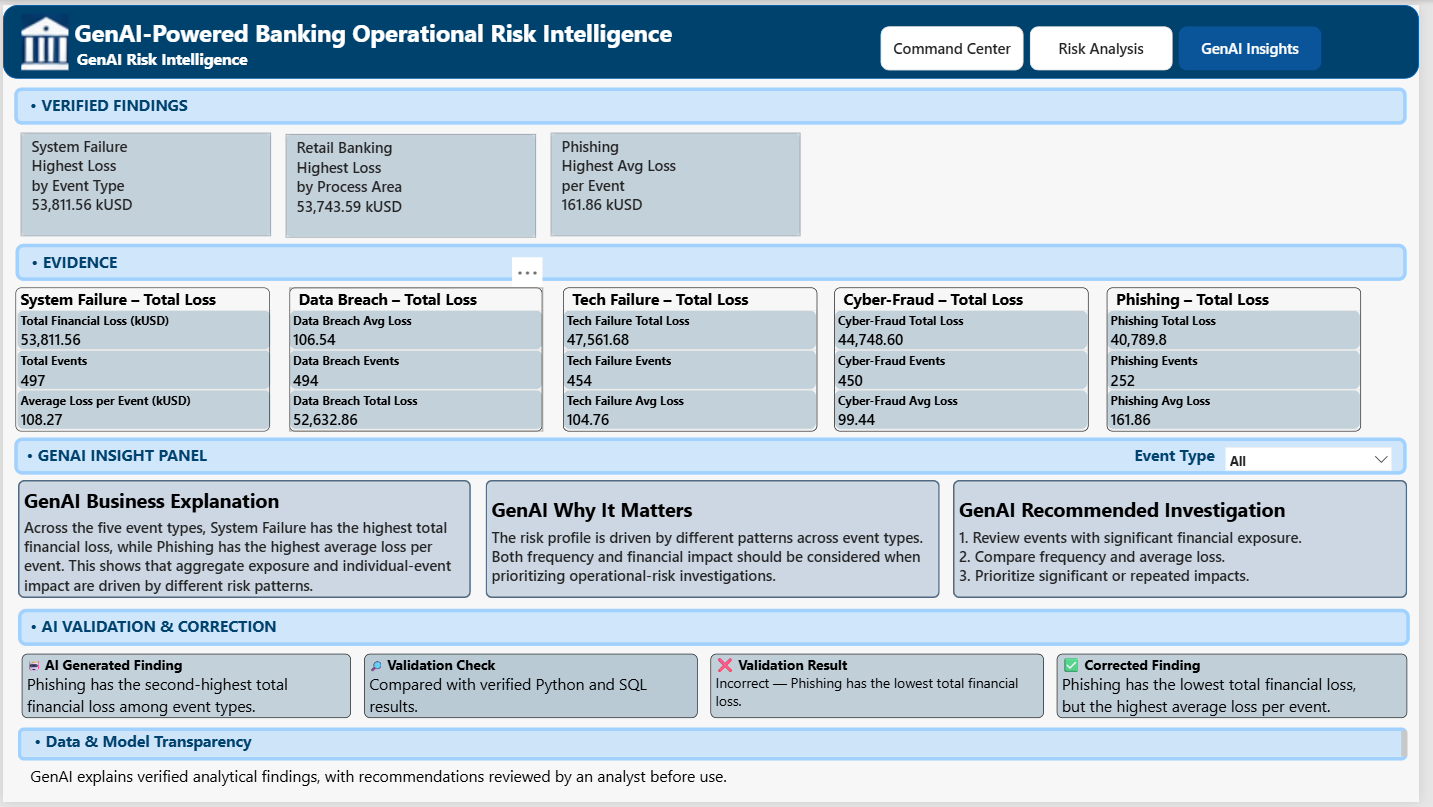

The page's visual inventory and layout, read from the dashboard file:
{"tool":"powerbi","page":{"name":"GenAI Insights","canvas":[1920,1080],"ordinal":2},"visuals":[{"type":"shape","box":[0,0,1920,100],"z":0},{"type":"textbox","box":[0,15,1920,85],"z":1000},{"type":"image","box":[0,11.7,113.3,76.7],"z":2000},{"type":"pageNavigator","box":[1190,28.3,600,60],"z":3000},{"type":"textbox","box":[16.1,112.5,1888,50],"z":4000},{"type":"cardVisual","fields":{"Data":["operational risk.Verified Finding 1"]},"box":[24.4,173.3,340,141],"z":5000},{"type":"cardVisual","fields":{"Data":["operational risk.Verified Finding 2"]},"box":[383.3,174.4,340,141],"z":6000},{"type":"cardVisual","fields":{"Data":["operational risk.Verified Finding 3"]},"box":[742.9,173.2,339.3,141.1],"z":7000},{"type":"textbox","box":[16.7,323.3,1886.7,50],"z":8000},{"type":"cardVisual","fields":{"Data":["operational risk.System Failure Total Loss","operational risk.System Failure Events","operational risk.System Failure Avg Loss"]},"box":[18.9,413.3,345.6,164.4],"z":9000},{"type":"textbox","box":[17.8,382.2,344.4,195.6],"z":10000},{"type":"cardVisual","fields":{"Data":["operational risk.Data Breach Avg Loss","operational risk.Data Breach Events","operational risk.Data Breach Total Loss"]},"box":[388.9,413.3,344.4,164.4],"z":11000},{"type":"textbox","box":[388.9,382.2,343.3,195.6],"z":12000},{"type":"cardVisual","fields":{"Data":["operational risk.Tech Failure Total Loss","operational risk.Tech Failure Events","operational risk.Tech Failure Avg Loss"]},"box":[758.9,413.3,344.4,164.4],"z":13000},{"type":"textbox","box":[758.9,382.2,344.4,195.6],"z":14000},{"type":"cardVisual","fields":{"Data":["operational risk.Cyber-Fraud Total Loss","operational risk.Cyber-Fraud Events","operational risk.Cyber-Fraud Avg Loss"]},"box":[1126.7,413.3,344.4,164.4],"z":15000},{"type":"cardVisual","fields":{"Data":["operational risk.Phishing Total Loss","operational risk.Phishing Events","operational risk.Phishing Avg Loss"]},"box":[1496.7,413.3,344.4,164.4],"z":16000},{"type":"textbox","box":[1126.7,382.2,344.4,195.6],"z":17000},{"type":"textbox","box":[1496.7,382.2,344.4,195.6],"z":18000},{"type":"shape","box":[15.6,586.7,1887.8,50],"z":19000},{"type":"textbox","box":[15.6,594.4,1888.9,28.9],"z":20000},{"type":"slicer","fields":{"Values":["operational risk.EVENT_TYPE"]},"box":[1651.8,594.6,235.7,42.9],"z":21000},{"type":"textbox","box":[1533.3,594.4,126.7,28.9],"z":22000},{"type":"cardVisual","fields":{"Data":["operational risk.GenAI Business Explanation"]},"box":[19.6,644.6,614.3,160.7],"z":23000},{"type":"cardVisual","fields":{"Data":["operational risk.GenAI Why It Matters"]},"box":[653.6,644.6,616.1,160.7],"z":24000},{"type":"cardVisual","fields":{"Data":["operational risk.GenAI Recommended Investigation"]},"box":[1287.5,644.6,616.1,160.7],"z":25000},{"type":"shape","box":[19.6,817.9,1887.5,50],"z":26000},{"type":"textbox","box":[20,818,1888,50],"z":27000},{"type":"textbox","box":[25,880.4,446.4,87.5],"z":28000},{"type":"textbox","box":[489.3,880.4,451.8,87.5],"z":29000},{"type":"textbox","box":[958.9,880.4,451.8,87.5],"z":30000},{"type":"textbox","box":[1428.6,880.4,475,87.5],"z":31000},{"type":"shape","box":[19.6,980.4,1883.9,45],"z":32000},{"type":"textbox","box":[25,1025,1878.6,55.4],"z":33000},{"type":"textbox","box":[25,980.4,1878.6,44.6],"z":34000}]}

Visuals, with their boxes in screenshot pixels (x1, y1, x2, y2), scaled from the page's 1920x1080 canvas onto the 1433x807 screenshot:
shape: region(0, 0, 1432, 75)
textbox: region(0, 11, 1432, 75)
image: region(0, 9, 85, 66)
pageNavigator: region(888, 21, 1336, 66)
textbox: region(12, 84, 1421, 121)
cardVisual - operational risk.Verified Finding 1: region(18, 129, 272, 235)
cardVisual - operational risk.Verified Finding 2: region(286, 130, 540, 236)
cardVisual - operational risk.Verified Finding 3: region(554, 129, 808, 235)
textbox: region(12, 242, 1421, 279)
cardVisual - operational risk.System Failure Total Loss x operational risk.System Failure Events: region(14, 309, 272, 432)
textbox: region(13, 286, 270, 432)
cardVisual - operational risk.Data Breach Avg Loss x operational risk.Data Breach Events: region(290, 309, 547, 432)
textbox: region(290, 286, 546, 432)
cardVisual - operational risk.Tech Failure Total Loss x operational risk.Tech Failure Events: region(566, 309, 823, 432)
textbox: region(566, 286, 823, 432)
cardVisual - operational risk.Cyber-Fraud Total Loss x operational risk.Cyber-Fraud Events: region(841, 309, 1098, 432)
cardVisual - operational risk.Phishing Total Loss x operational risk.Phishing Events: region(1117, 309, 1374, 432)
textbox: region(841, 286, 1098, 432)
textbox: region(1117, 286, 1374, 432)
shape: region(12, 438, 1421, 476)
textbox: region(12, 444, 1421, 466)
slicer - operational risk.EVENT_TYPE: region(1233, 444, 1409, 476)
textbox: region(1144, 444, 1239, 466)
cardVisual - operational risk.GenAI Business Explanation: region(15, 482, 473, 602)
cardVisual - operational risk.GenAI Why It Matters: region(488, 482, 948, 602)
cardVisual - operational risk.GenAI Recommended Investigation: region(961, 482, 1421, 602)
shape: region(15, 611, 1423, 649)
textbox: region(15, 611, 1424, 649)
textbox: region(19, 658, 352, 723)
textbox: region(365, 658, 702, 723)
textbox: region(716, 658, 1053, 723)
textbox: region(1066, 658, 1421, 723)
shape: region(15, 733, 1421, 766)
textbox: region(19, 766, 1421, 806)
textbox: region(19, 733, 1421, 766)
